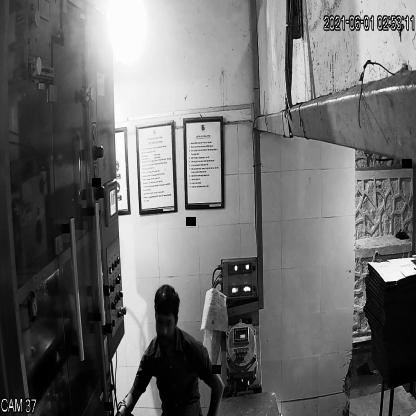no_goggles: (154, 311, 180, 334)
